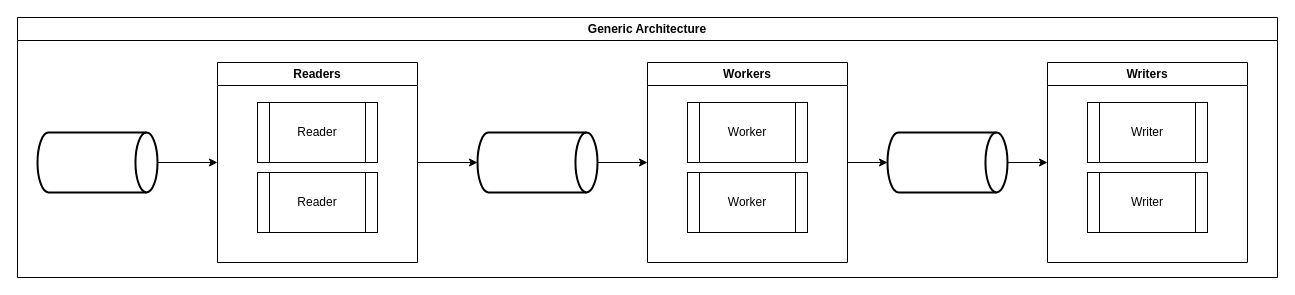
This 1295x295 diagram has some shape labels left out. Here are the shapes that lost their labels. From the top down, the centre of each, then its label:
(97,162): File Path Queue
(537,162): Public Key Queue
(947,162): Results Queue
